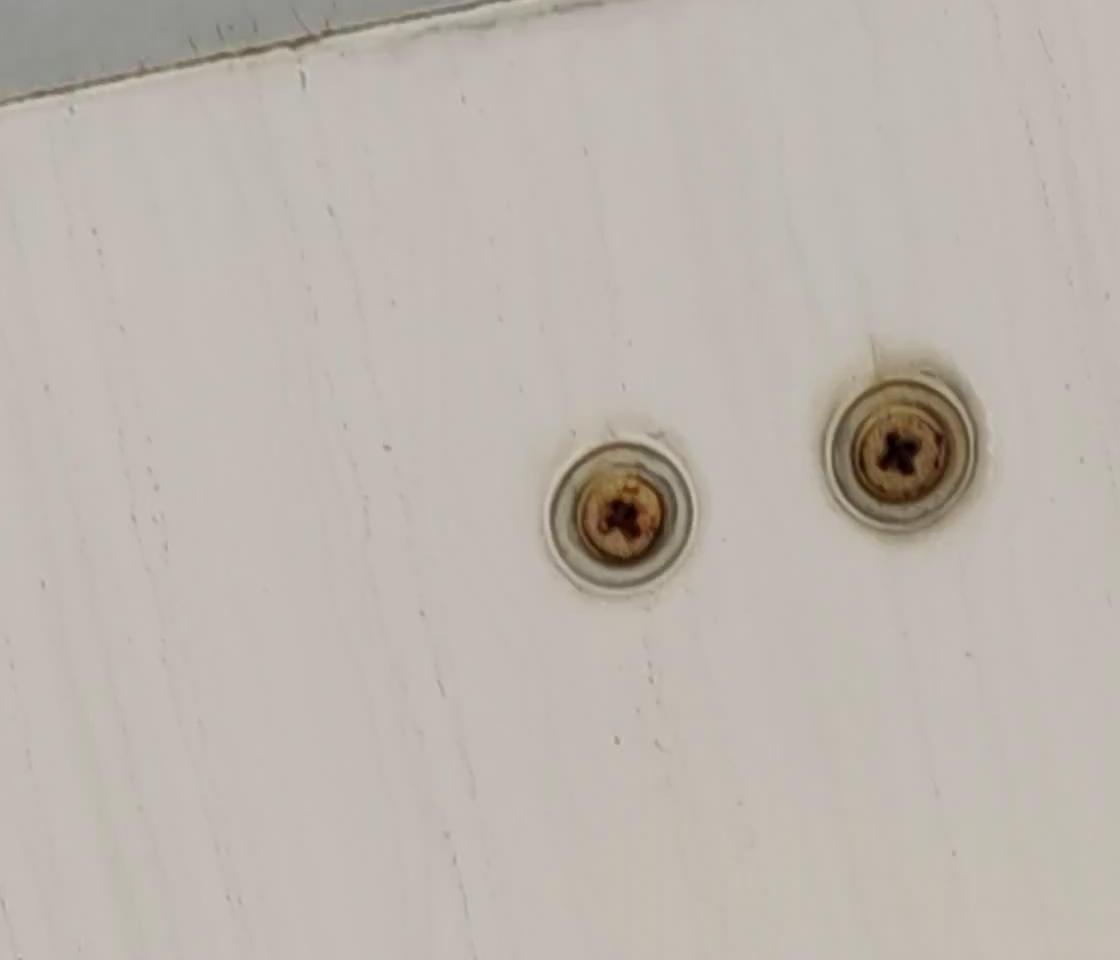rivet_damage: (829, 378, 973, 525), (557, 446, 688, 585)
